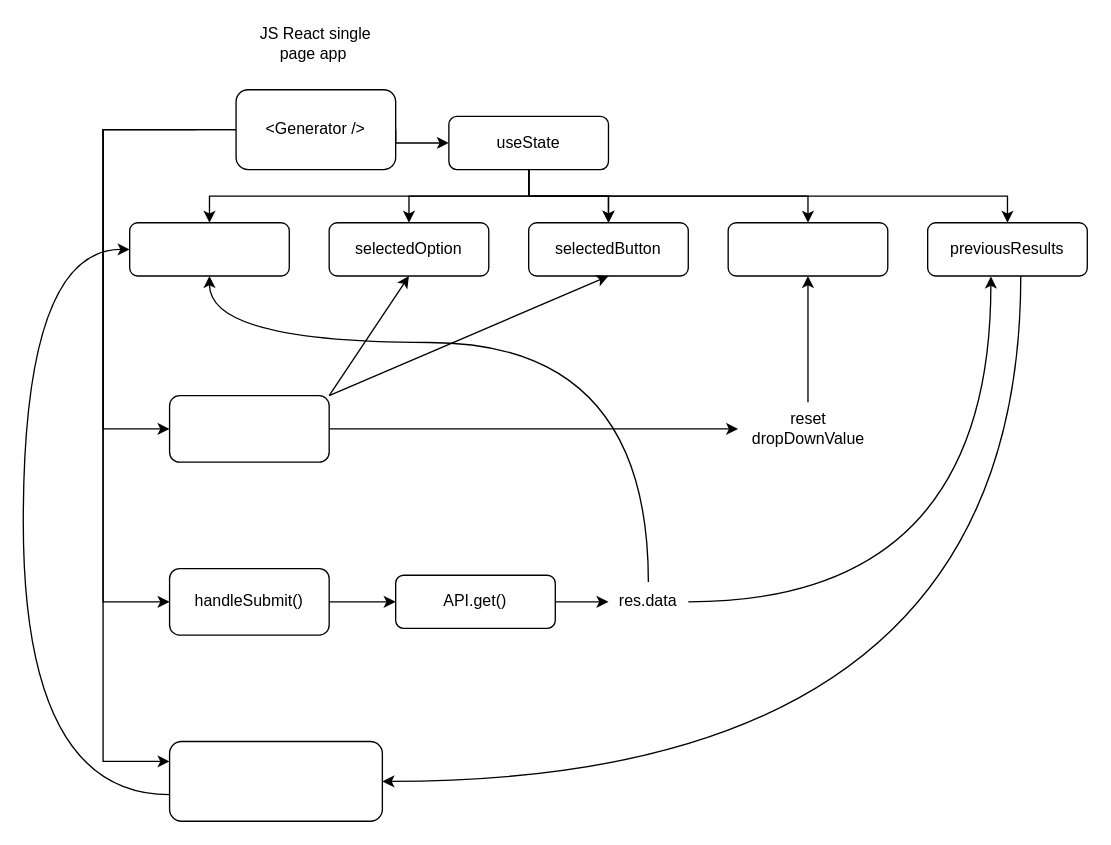
Some shapes in this 1111 by 845 pixel diagram are drawn without their labels. The centre of each missing label's shape, as x and y in pixels:
"currentRender" goes at [208,248].
"dropDownValue" goes at [807,248].
"handleButtonClick()" goes at [248,428].
"handlePreviousSelect()" goes at [275,780].
